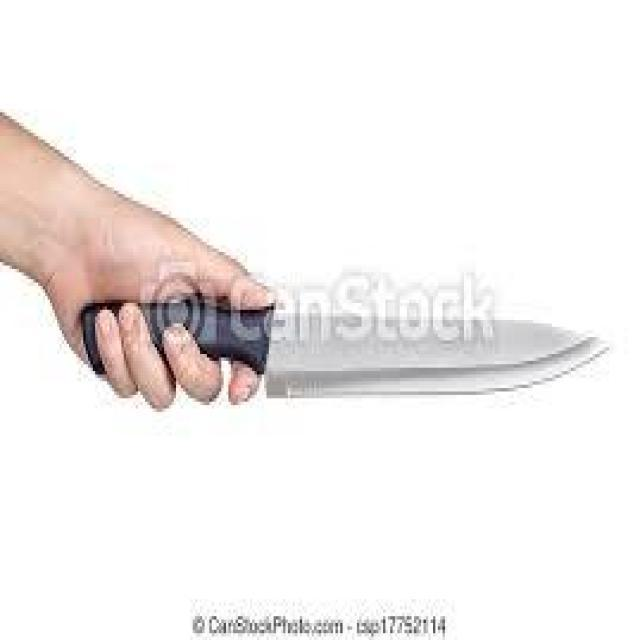faca: (40, 160, 614, 450)
